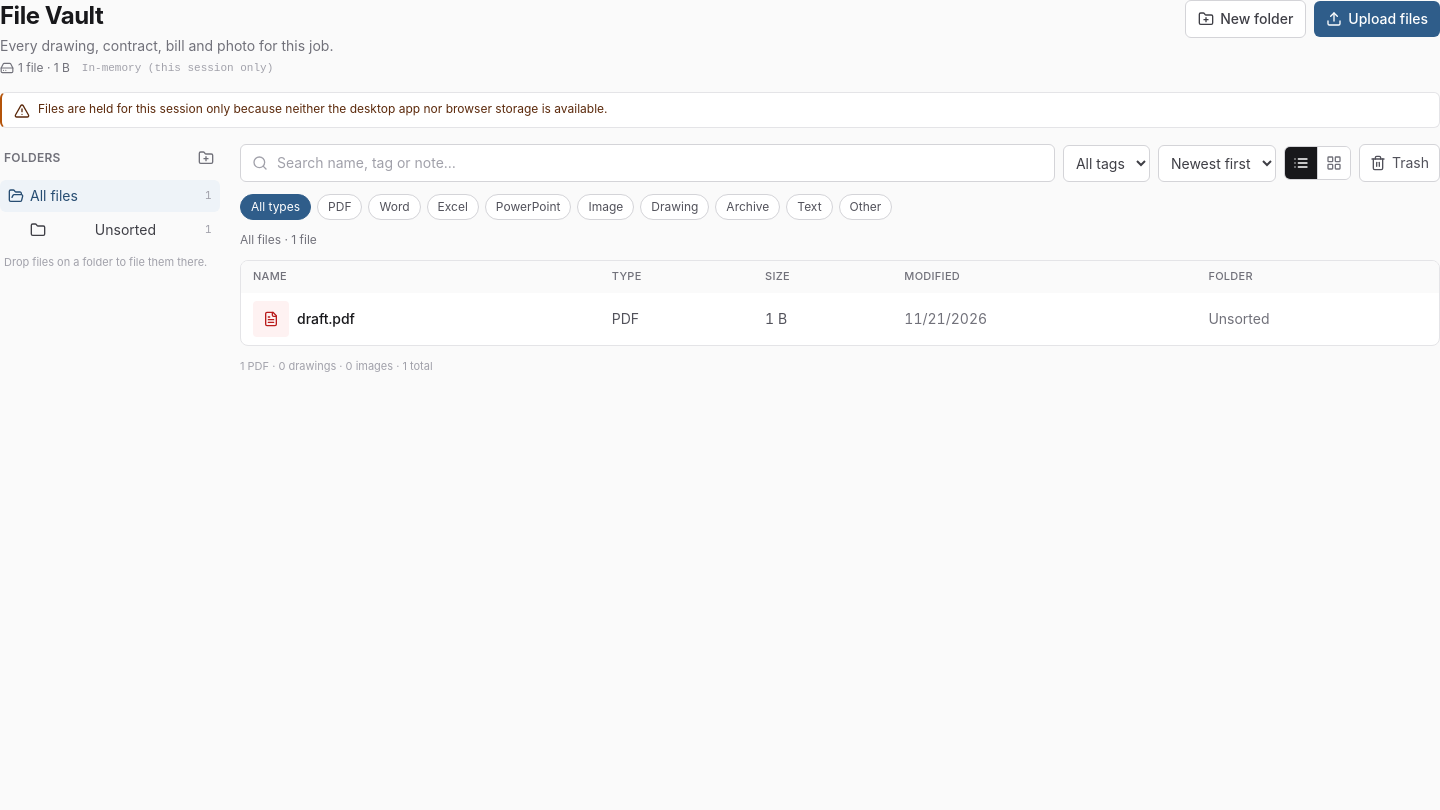
renames a file from the details pane
Click the row "draft.pdf PDF 1 B 11/21/2026 Unsorted" at (271, 319), box x1=241 y1=293 x2=1439 y2=345
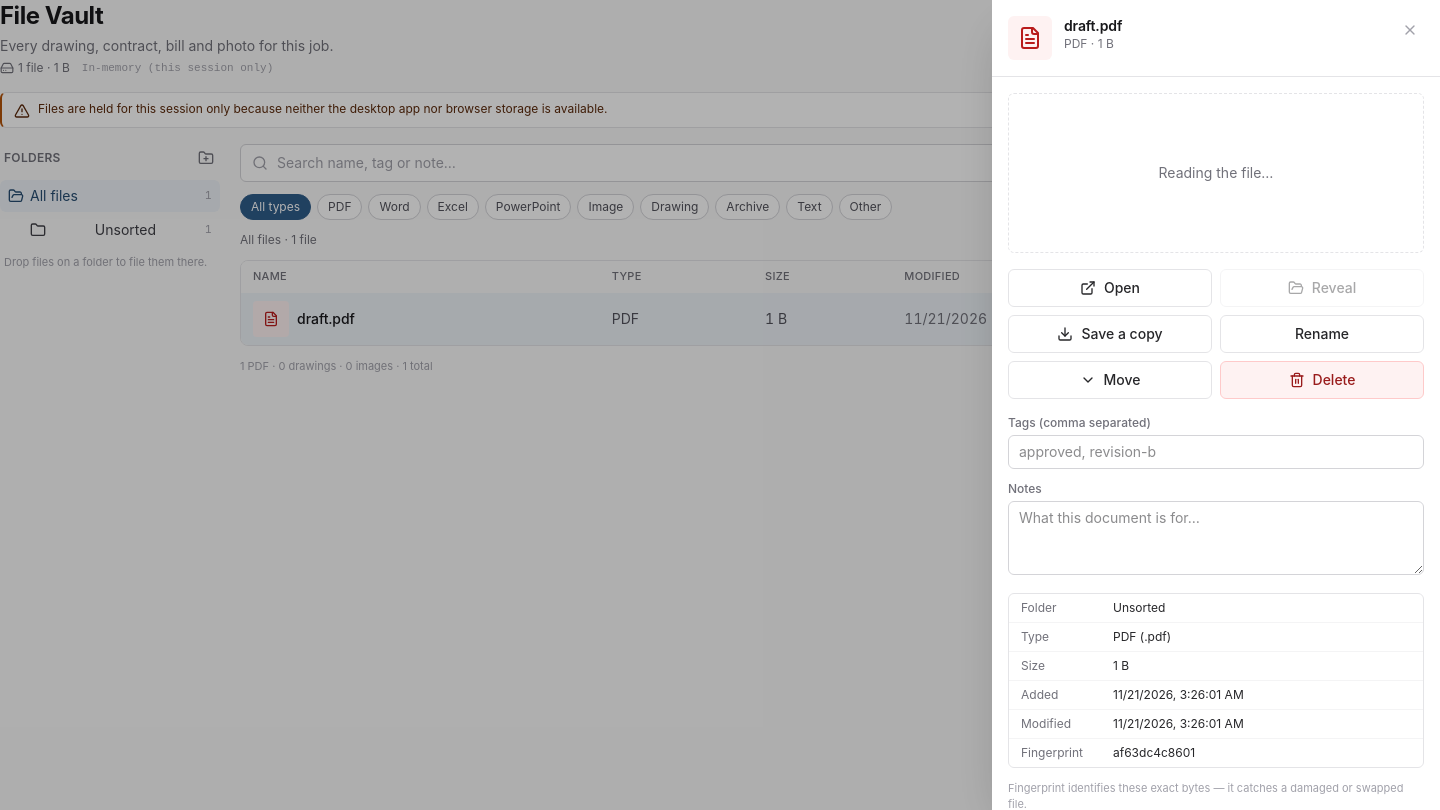
Click the button with test id "vault-rename" at (1322, 334), box x1=1220 y1=315 x2=1424 y2=353
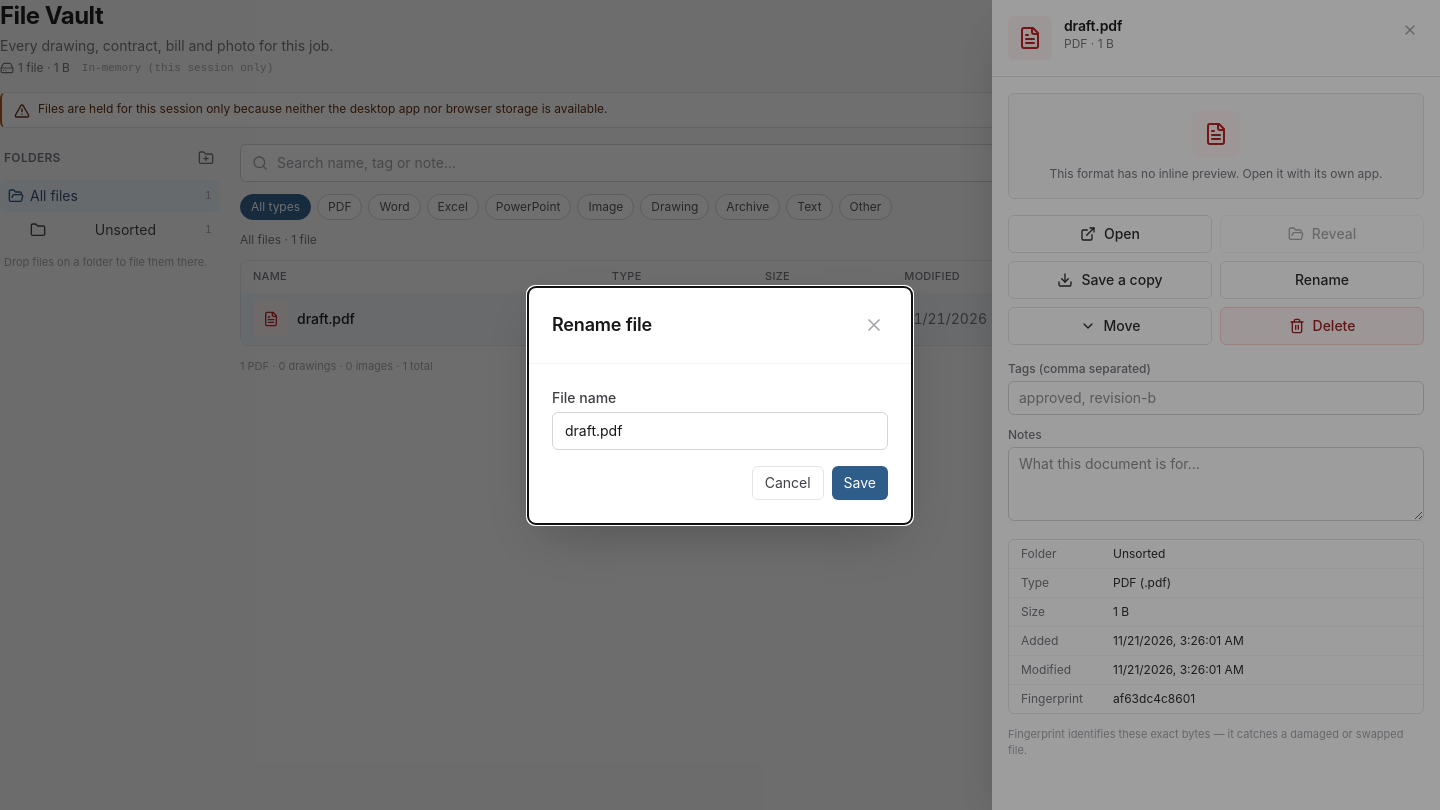
Replace the text in the field with test id "vault-name-input" with "issued-plan.pdf" at (720, 430), box x1=552 y1=412 x2=888 y2=450
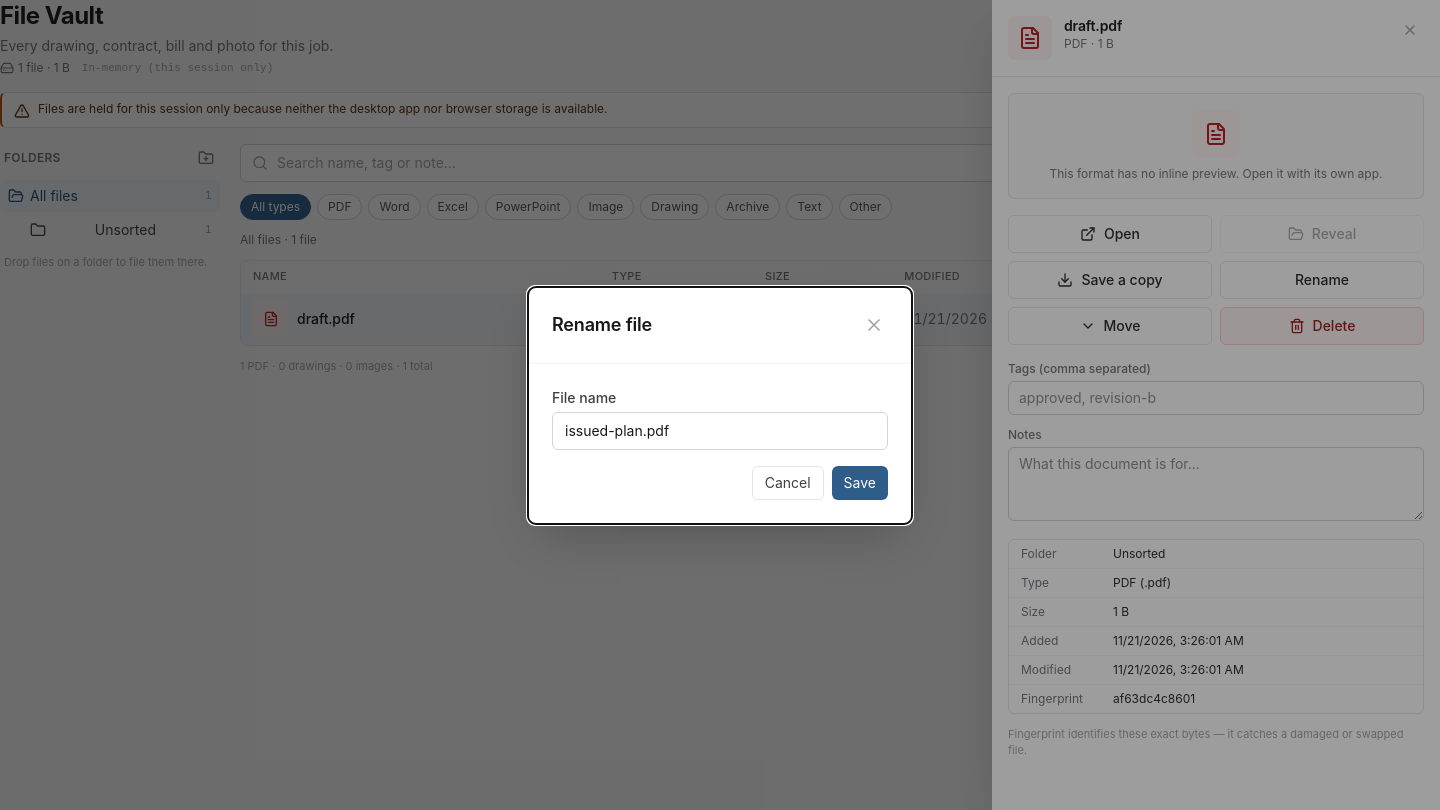
Click the button with test id "vault-name-save" at (860, 482), box x1=832 y1=466 x2=888 y2=500
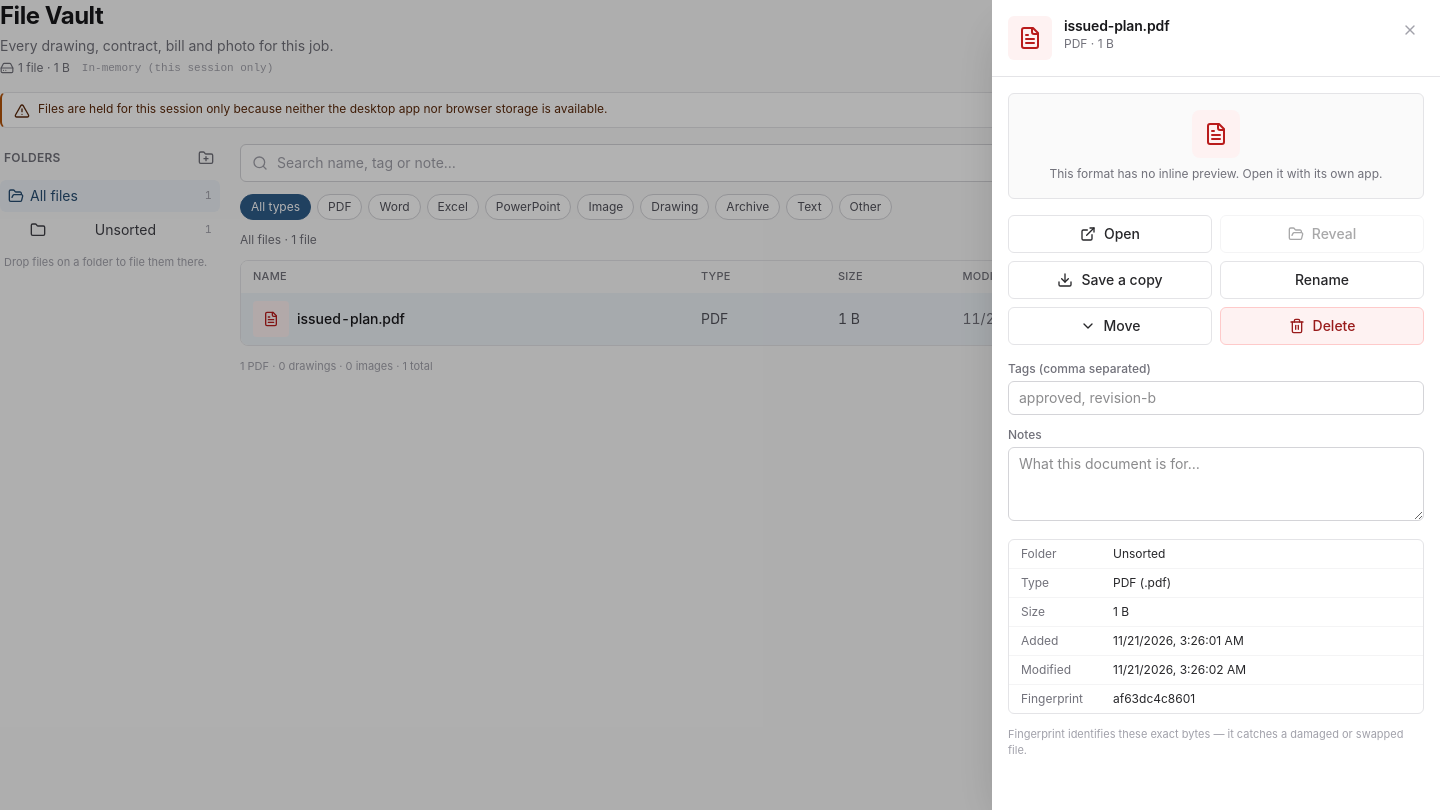
Check: the text "issued-plan.pdf" is shown, box x1=297 y1=309 x2=405 y2=329
